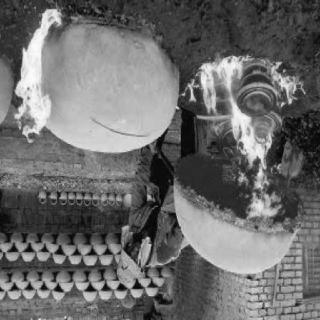Fire: (196, 49, 308, 248)
